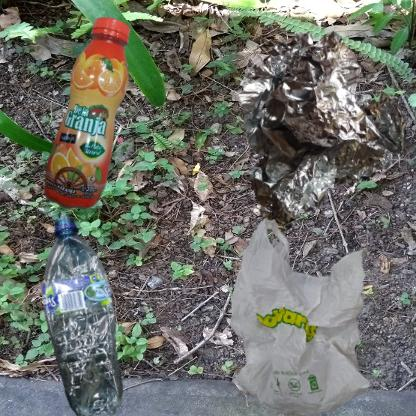aluminio: (213, 10, 416, 256)
bolsa: (213, 213, 404, 416)
botella: (10, 10, 225, 293), (10, 213, 179, 416)
